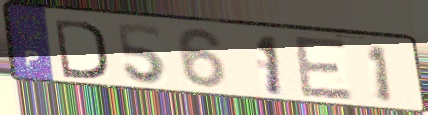1: (253, 33, 288, 98), (365, 43, 394, 105)
5: (114, 20, 170, 88)
6: (174, 26, 232, 94)
D: (51, 16, 110, 82)
E: (290, 33, 357, 102)
